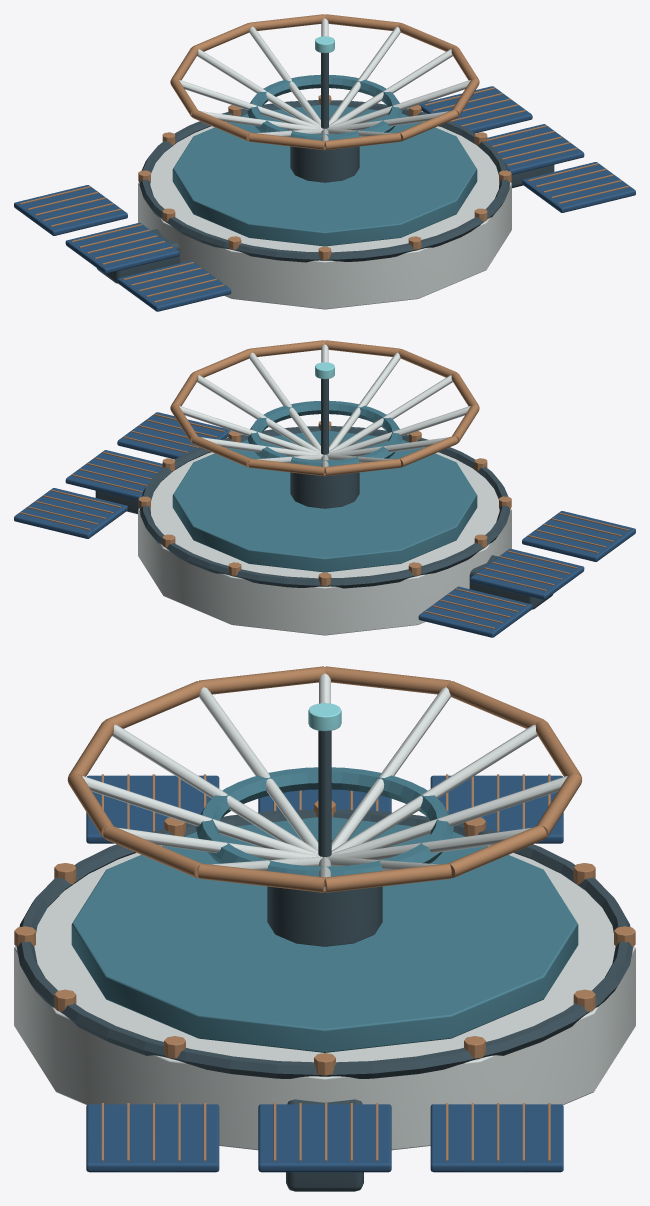
The model's file is OrbitalObservatory112.fbx.
3 renders of one model, top to bottom at view 1: azimuth 30°, elevation 25°; view 2: azimuth 150°, elevation 25°; view 3: azimuth 270°, elevation 25°, orthographic. The views are drawn at different scales.
Parts seen in each view (by area): view 1: Operations glazing, Faceted operations hull, Pressure seam, Thermal radiator, Thermal radiator.001, Thermal radiator.002, Thermal radiator.003, Receiver inner mesh, Thermal radiator.004, Thermal radiator.005, Dish pedestal, Parabolic receiver spoke (+17 smaller); view 2: Operations glazing, Faceted operations hull, Pressure seam, Thermal radiator.002, Thermal radiator.001, Thermal radiator.005, Thermal radiator, Receiver inner mesh, Thermal radiator.004, Thermal radiator.003, Dish pedestal, Parabolic receiver spoke (+17 smaller); view 3: Operations glazing, Faceted operations hull, Pressure seam, Thermal radiator.003, Thermal radiator.004, Thermal radiator.005, Receiver inner mesh, Dish pedestal, Thermal radiator, Thermal radiator.002, Parabolic receiver spoke.004, Parabolic receiver spoke.008 (+22 smaller).
Part boxes in pixels (x1,y1,x2,y2): Operations glazing: (172,104,477,246); Faceted operations hull: (138,122,511,309); Pressure seam: (139,100,509,262); Thermal radiator: (117,260,231,311); Thermal radiator.001: (65,222,179,273); Thermal radiator.002: (14,185,127,235); Thermal radiator.003: (522,162,635,212); Receiver inner mesh: (247,74,402,140); Thermal radiator.004: (487,124,584,174); Thermal radiator.005: (419,86,532,133); Dish pedestal: (290,118,359,182); Parabolic receiver spoke: (329,49,452,126); Operations glazing: (172,430,477,572); Faceted operations hull: (138,448,511,635); Pressure seam: (140,426,510,588); Thermal radiator.002: (418,586,532,637); Thermal radiator.001: (470,548,584,599); Thermal radiator.005: (14,488,127,538); Thermal radiator: (522,511,635,561); Receiver inner mesh: (247,400,402,466); Thermal radiator.004: (65,450,162,500); Thermal radiator.003: (117,412,230,459); Dish pedestal: (290,444,359,508); Parabolic receiver spoke: (197,375,320,452); Operations glazing: (71,817,578,1052); Faceted operations hull: (14,845,635,1150); Pressure seam: (16,809,633,1078); Thermal radiator.003: (86,1104,219,1172); Thermal radiator.004: (258,1104,391,1172); Thermal radiator.005: (430,1104,563,1172); Receiver inner mesh: (196,767,453,876); Dish pedestal: (267,840,382,946); Thermal radiator: (86,775,219,843); Thermal radiator.002: (430,775,563,843); Parabolic receiver spoke.004: (331,724,537,853); Parabolic receiver spoke.008: (112,724,318,853).
Bounding box in the file's own units: 830 × 316 × 560.
